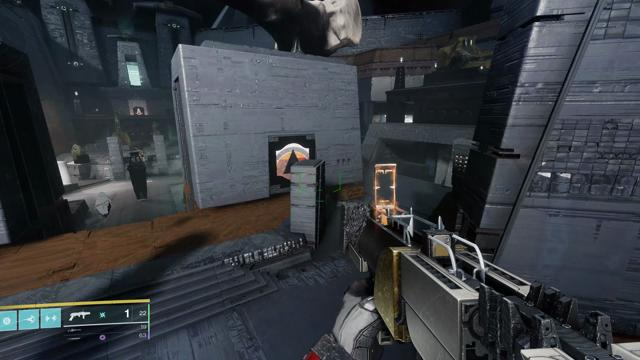pyramid: (276, 143, 309, 181)
